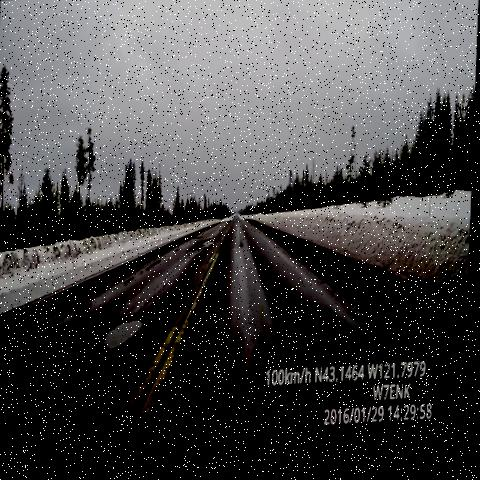pothole: (102, 314, 152, 366), (195, 233, 221, 259), (231, 240, 245, 265), (236, 216, 243, 238)
